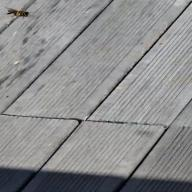Bee: (0, 5, 40, 22)
